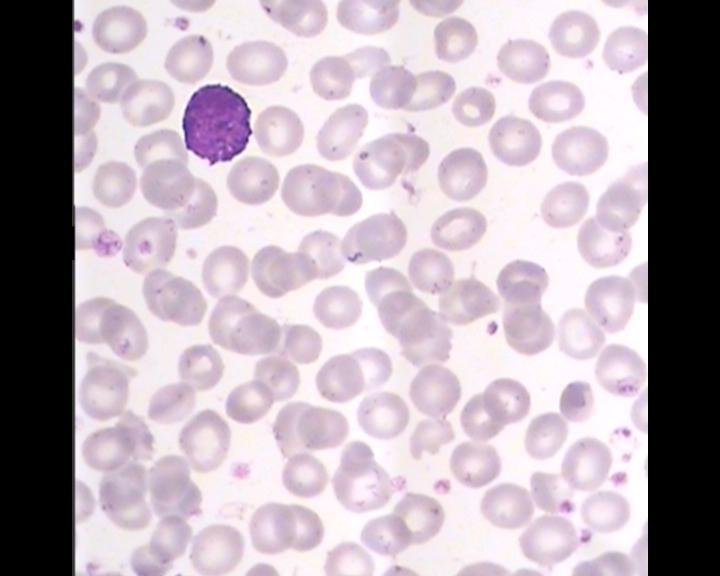baso: (175, 77, 261, 168)
